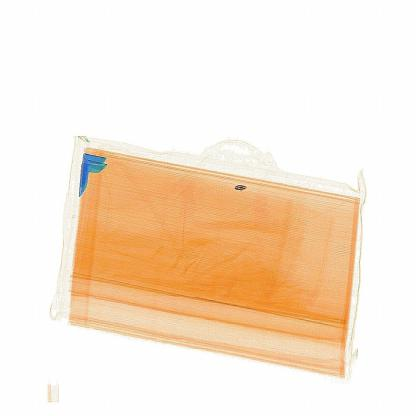wrench: (224, 178, 264, 207)
